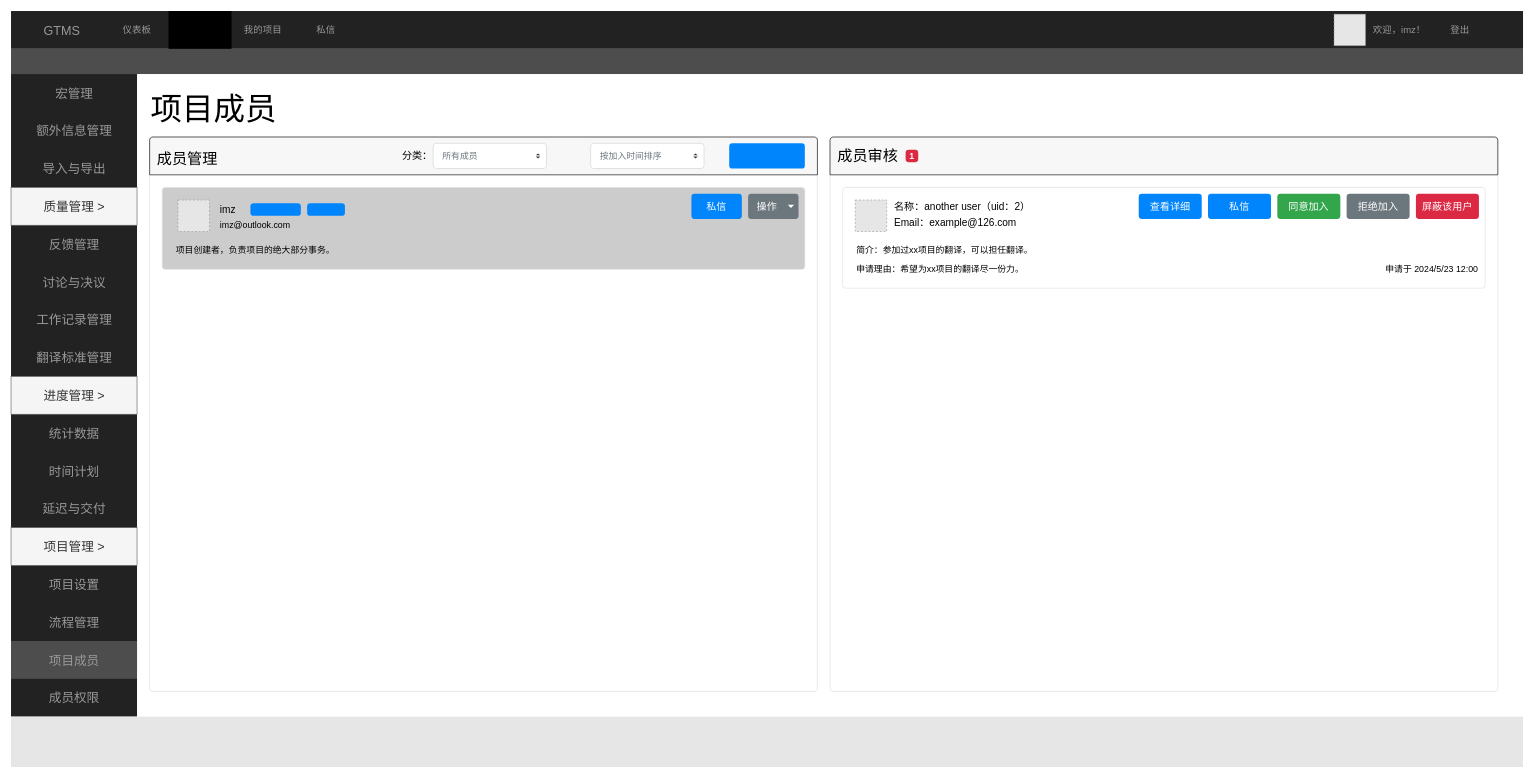
The diagram is 1534 pixels wide and 777 high, and some of its shapes have lost their labels. Grey dashed boxes stand in for pictures. Here are the shapes that lost their labels. From the top down, the box of each, then its label:
(168, 11, 231, 49): 项目浏览
(11, 49, 1523, 74): 示例中文化项目01 / 项目成员
(729, 143, 805, 168): 添加新成员
(250, 203, 301, 215): 项目所有者
(307, 203, 345, 215): 管理员
(11, 716, 1523, 767): Yifan Xu 毕业设计 @天津工业大学
